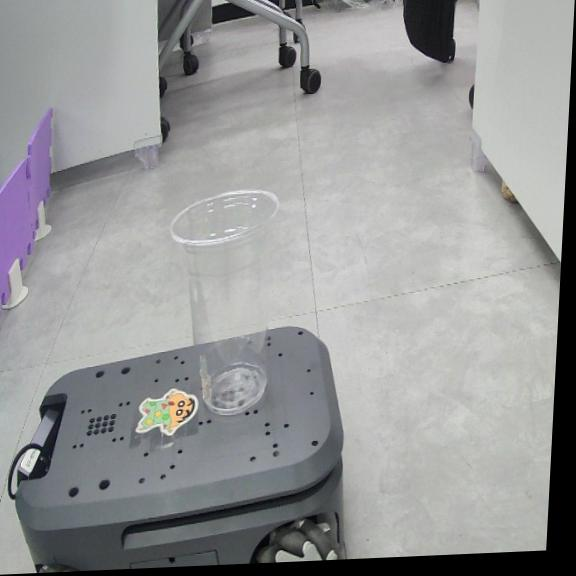Plastik: (170, 190, 279, 414)
